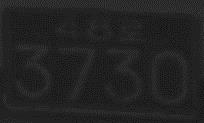0: (148, 48, 189, 105)
3: (104, 46, 142, 103), (14, 43, 52, 98)
4: (55, 11, 81, 41)
6: (87, 13, 114, 44)
7: (57, 45, 97, 100)
로: (116, 15, 143, 44)
